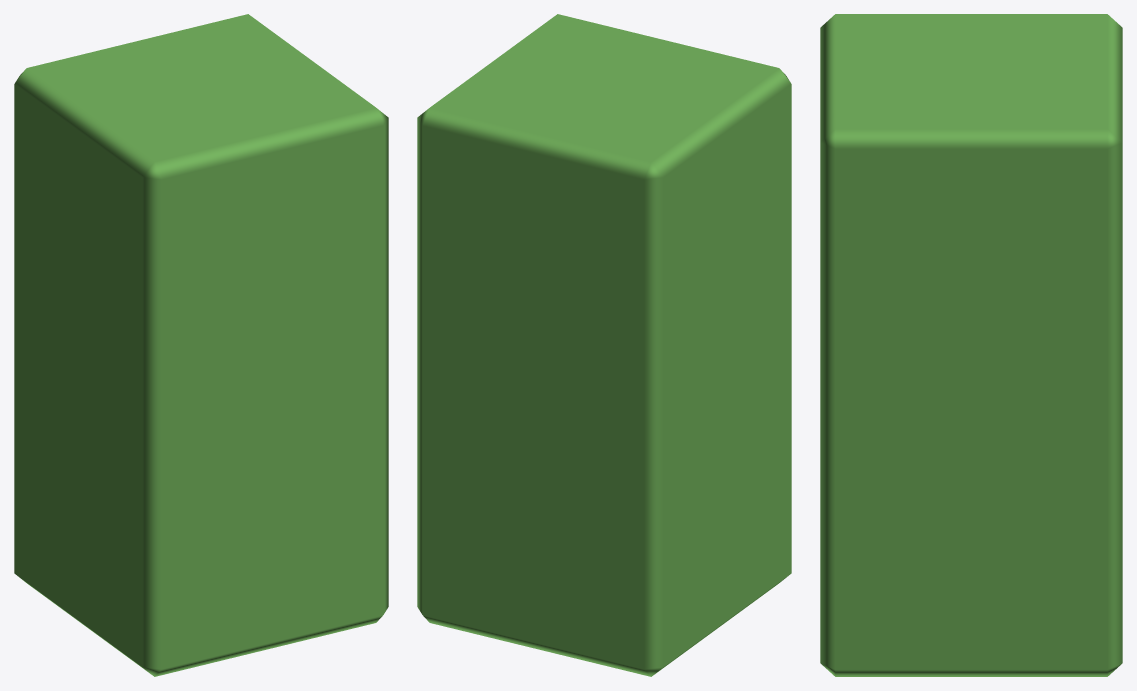
The model's file is 1x2x1_Square.fbx.
3 views of the same model, side by side, from view 1: azimuth 30°, elevation 25°; view 2: azimuth 150°, elevation 25°; view 3: azimuth 270°, elevation 25° (orthographic). The views are drawn at different scales.
Parts seen in each view (by area): view 1: 1x2x1_Square; view 2: 1x2x1_Square; view 3: 1x2x1_Square.
Boxes of the visible parts, x1,y1,x2,y2 form: 1x2x1_Square: [14, 14, 388, 676]; 1x2x1_Square: [417, 14, 791, 676]; 1x2x1_Square: [820, 14, 1122, 676].
Bounding box in the file's own units: 0.1 × 0.2 × 0.1.
1 material, 1 textured.
